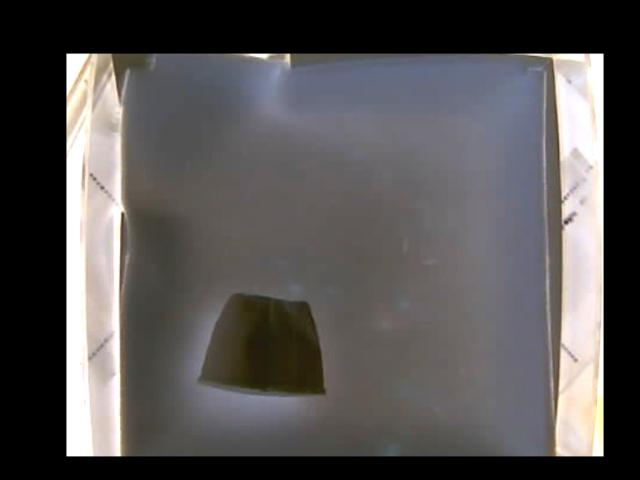Cup: (198, 290, 324, 400)
